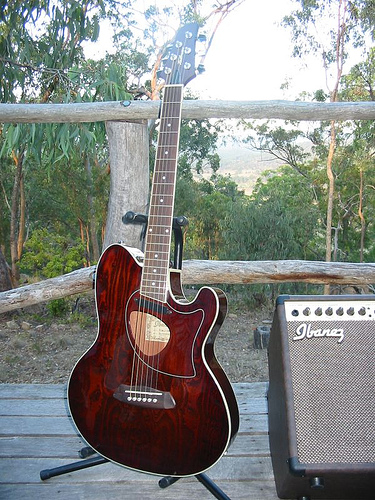guitar: (63, 20, 242, 477)
